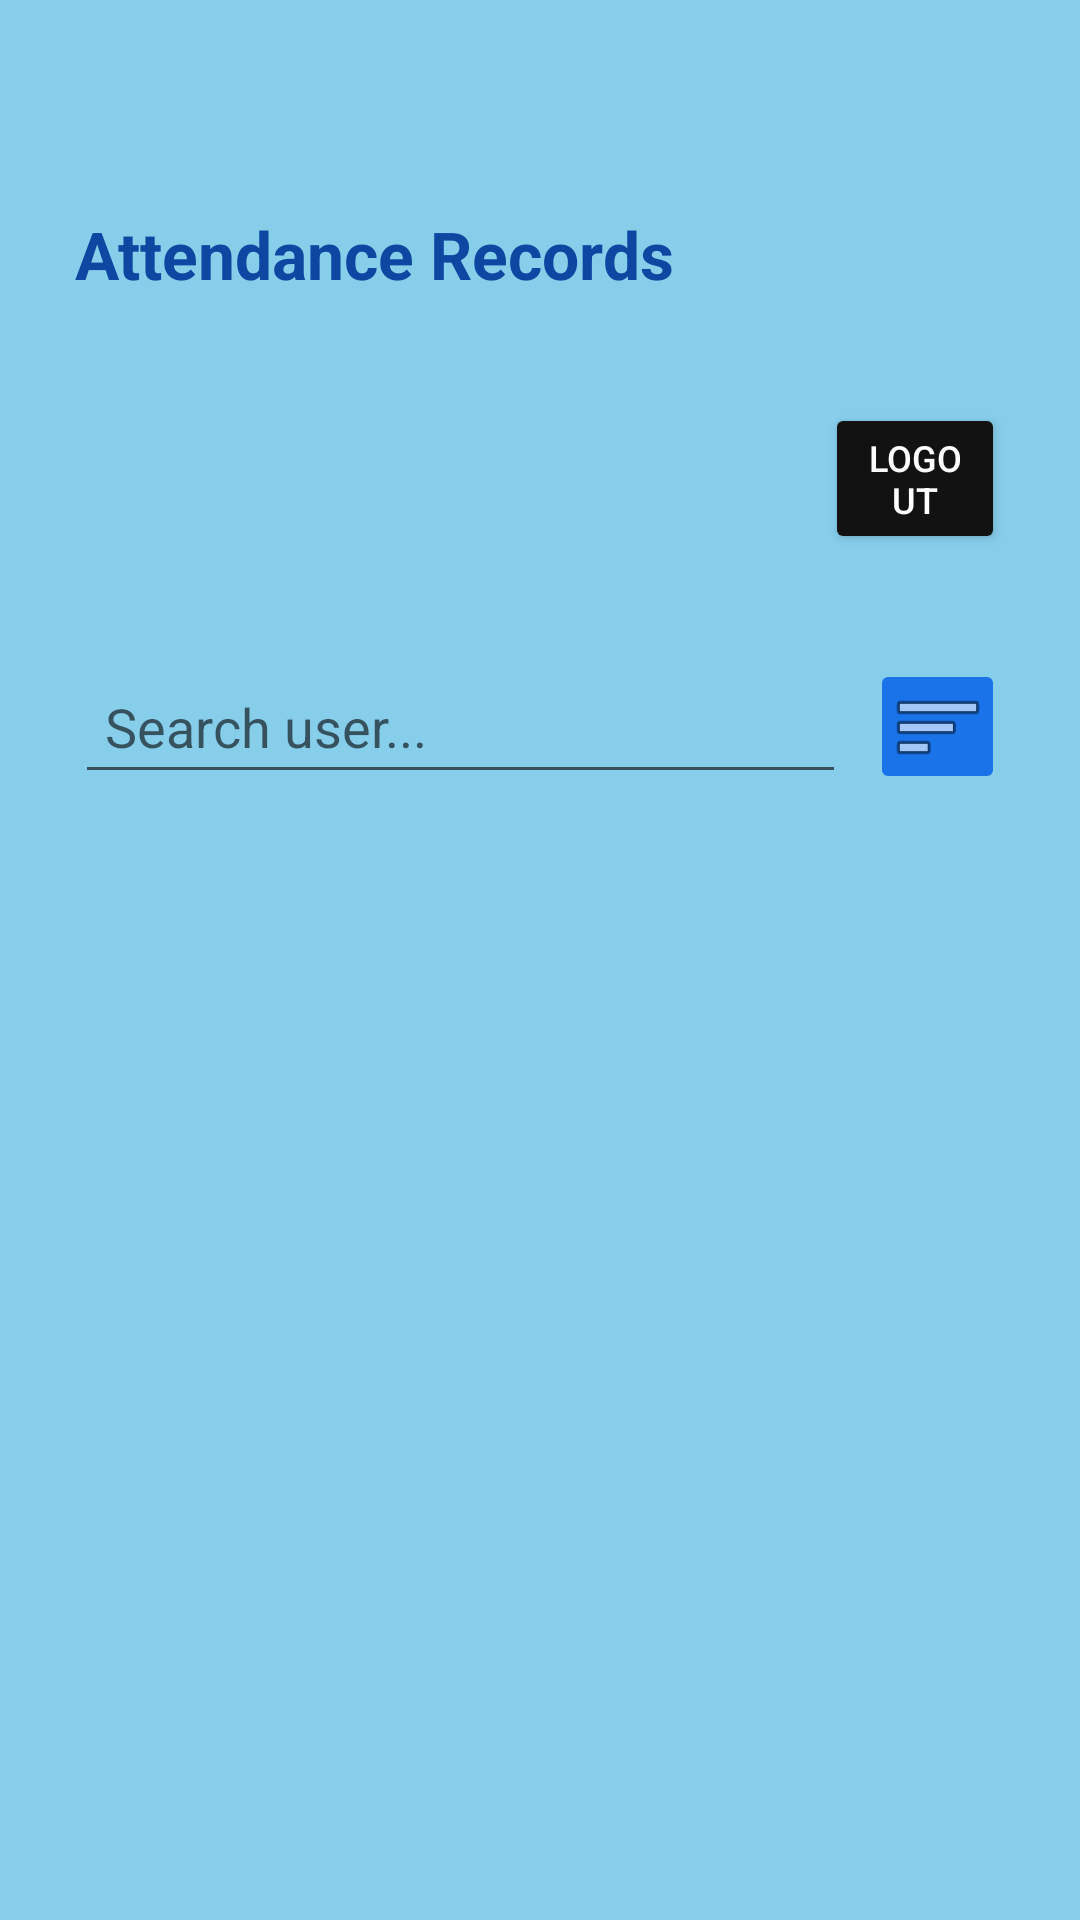

Point at icon controls on the screen. Image size 1080x1920, points as (x,y).
sort by size: (937,726)
